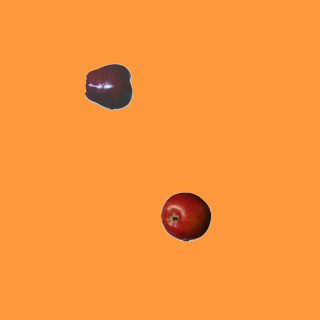Apple Braeburn: (160, 191, 210, 241)
Apple Red Delicious: (84, 61, 134, 111)
